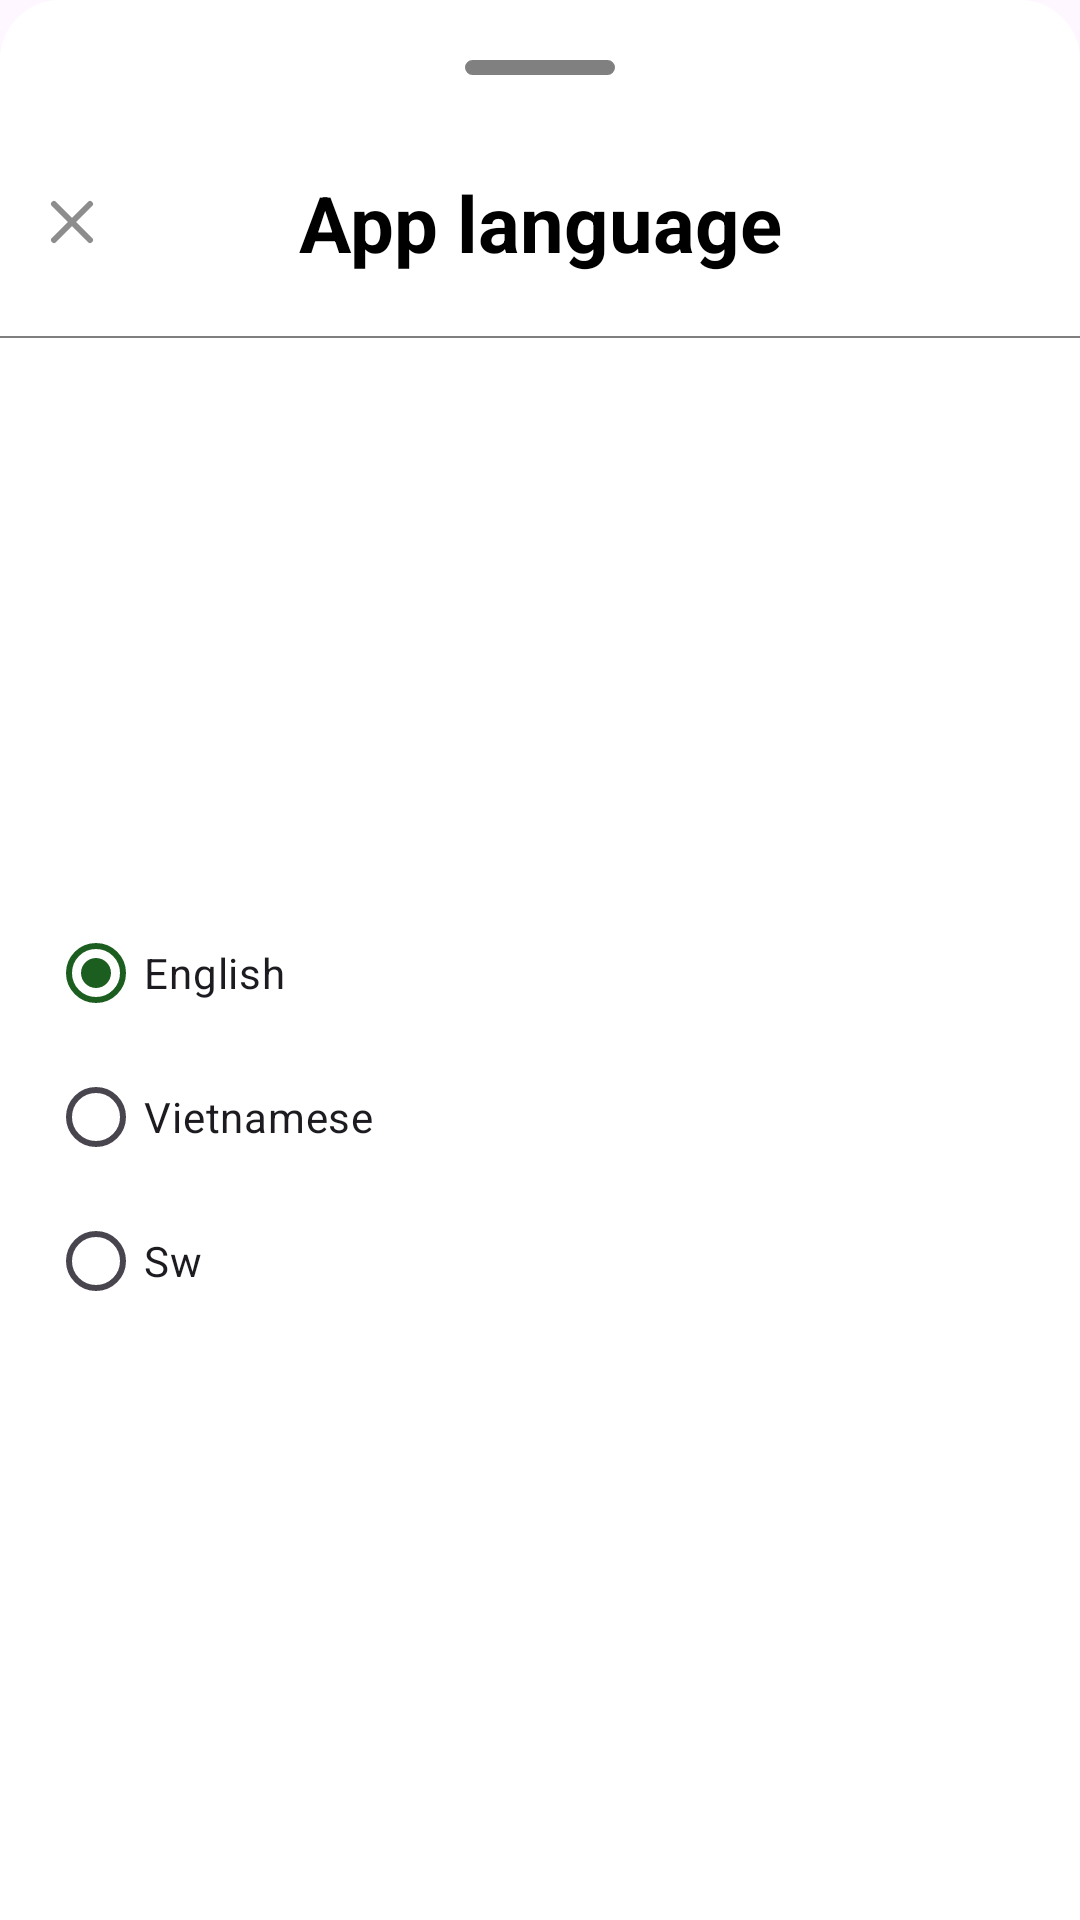

Icons on this 1080×1920 Android screen, each with the point to tap as (x,y):
close: (72,222)
